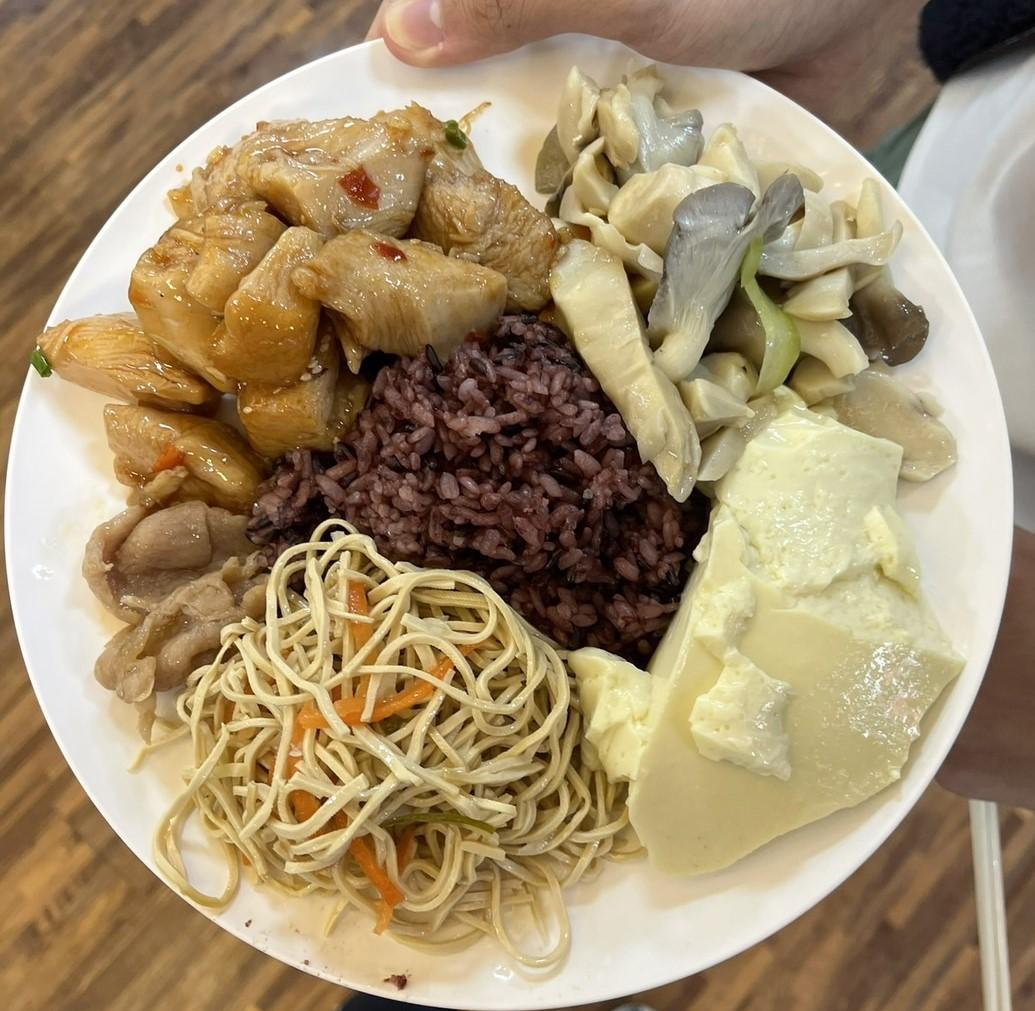big fried chicken leg: (3, 21, 1019, 1011)
braised fish: (259, 313, 702, 647)
braised fish fillet: (538, 65, 967, 492), (176, 530, 625, 931), (605, 398, 973, 885)
braised pork: (51, 88, 563, 498)
